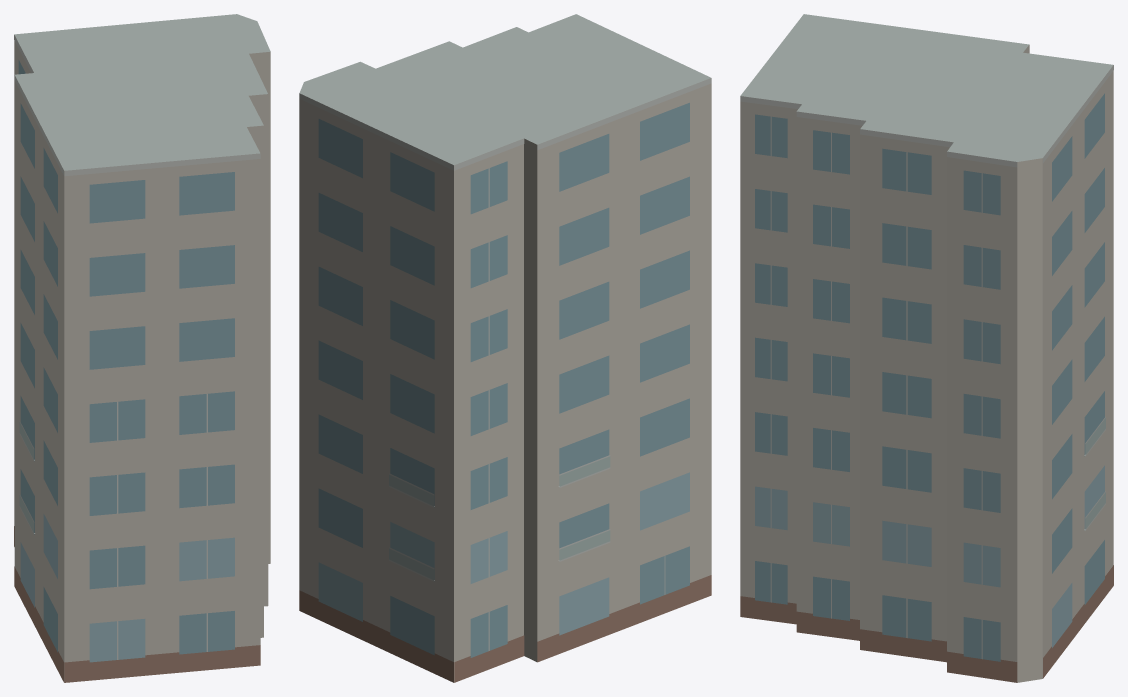
Rendered from survey-upis-32892708.glb.
3 renders of one model, left to right at view 1: azimuth 30°, elevation 25°; view 2: azimuth 150°, elevation 25°; view 3: azimuth 270°, elevation 25°, orthographic.
Parts seen in each view (by area): view 1: survey-upis-32892708.tmp; view 2: survey-upis-32892708.tmp; view 3: survey-upis-32892708.tmp.
Boxes of the visible parts, x1,y1,x2,y2 form: survey-upis-32892708.tmp: (14,14,270,682); survey-upis-32892708.tmp: (299,14,711,682); survey-upis-32892708.tmp: (740,14,1113,682).
Size of the model in its own units: 14 by 22.95 by 14.92.
